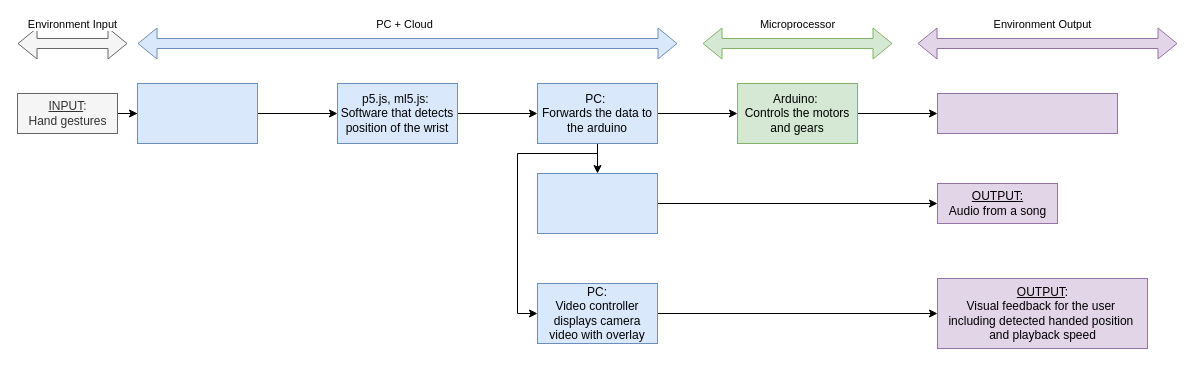
Some shapes in this 1195 by 366 pixel diagram are drawn without their labels. The box of each missing label's shape, as (x1, y1, x2, y2) in pixels:
Camera captures images: (136, 82, 258, 144)
OUTPUT : Move motors that move gears: (936, 92, 1118, 134)
PC: Audio controller plays audio of song: (536, 172, 658, 234)
